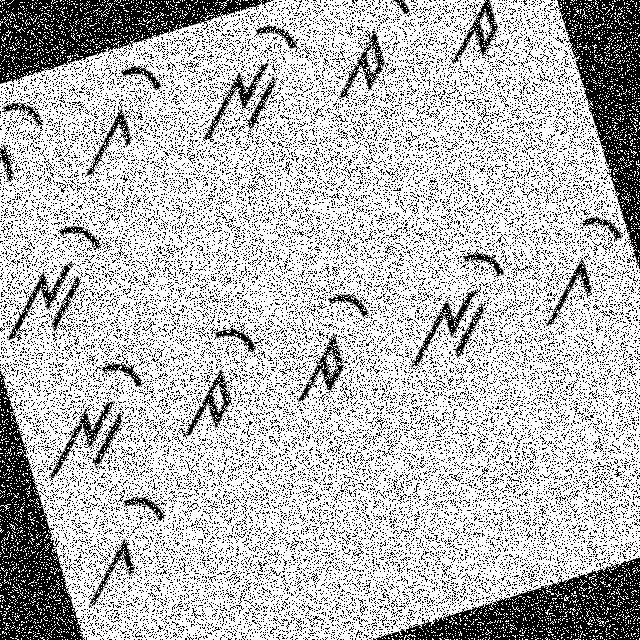gay: (46, 47, 188, 187), (56, 479, 188, 613), (514, 197, 639, 338), (0, 85, 68, 220)
ngay: (378, 232, 528, 382), (173, 4, 320, 150), (17, 346, 166, 490), (0, 203, 133, 362)
tay: (266, 277, 396, 413), (304, 0, 441, 115), (157, 317, 280, 444), (418, 0, 553, 80)
